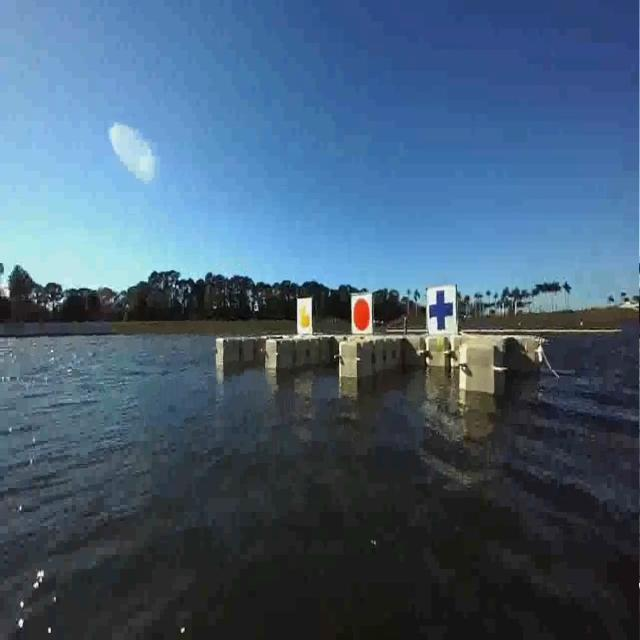blue-cross: (425, 284, 458, 330)
red-dot: (351, 294, 375, 334)
yellow-duck: (296, 296, 312, 334)
